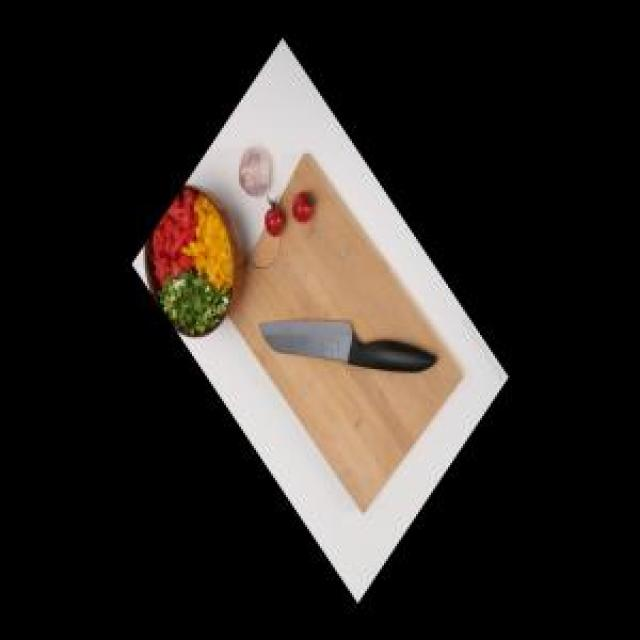knife: (258, 314, 445, 376)
